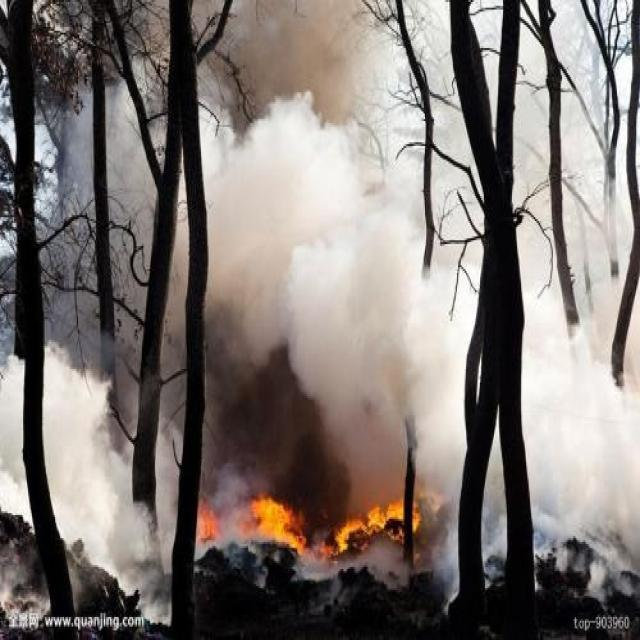Fire: (334, 494, 422, 554), (248, 488, 306, 558), (200, 503, 222, 542)
Smoke: (1, 1, 639, 626)
